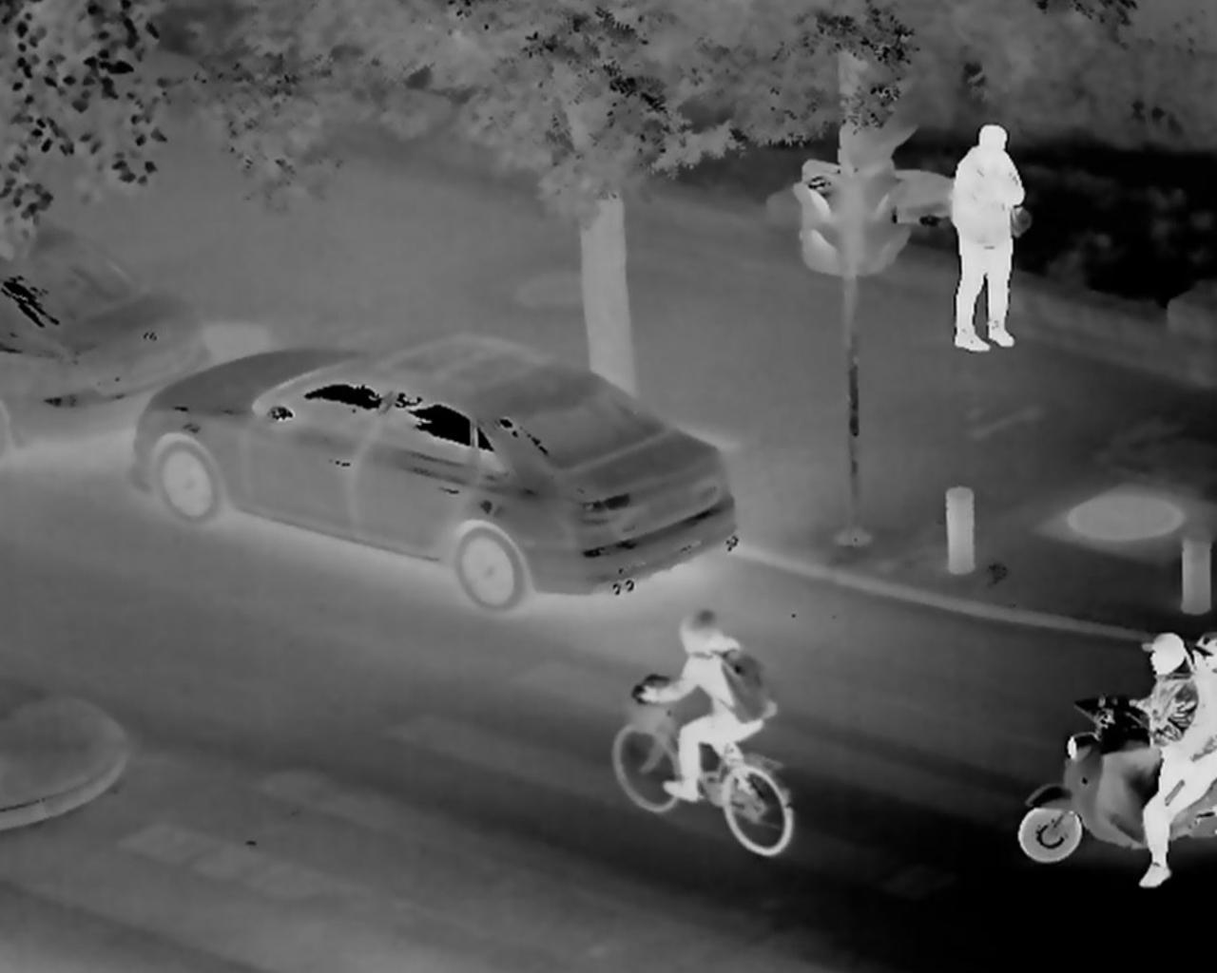person: (631, 611, 778, 830), (1108, 631, 1191, 884), (939, 121, 1021, 357), (1176, 629, 1217, 787)
